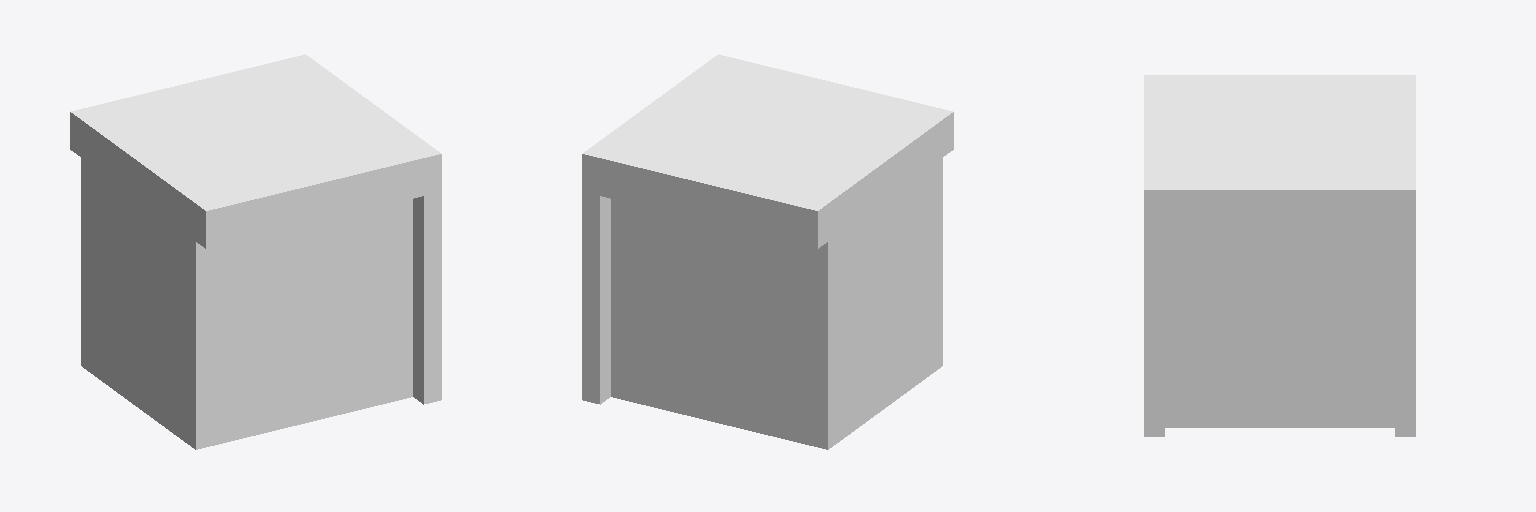
Rendered from Edge.obj.
The picture shows the model from 3 angles: view 1: azimuth 30°, elevation 25°; view 2: azimuth 150°, elevation 25°; view 3: azimuth 270°, elevation 25°; orthographic projection.
Parts seen in each view (by area): view 1: object 1; view 2: object 1; view 3: object 1.
Part boxes in pixels (x1,y1,x2,y2): object 1: (70,54,441,449); object 1: (582,54,953,449); object 1: (1144,75,1415,436).
Bounding box in the file's own units: 3.9 × 3.9 × 3.9.